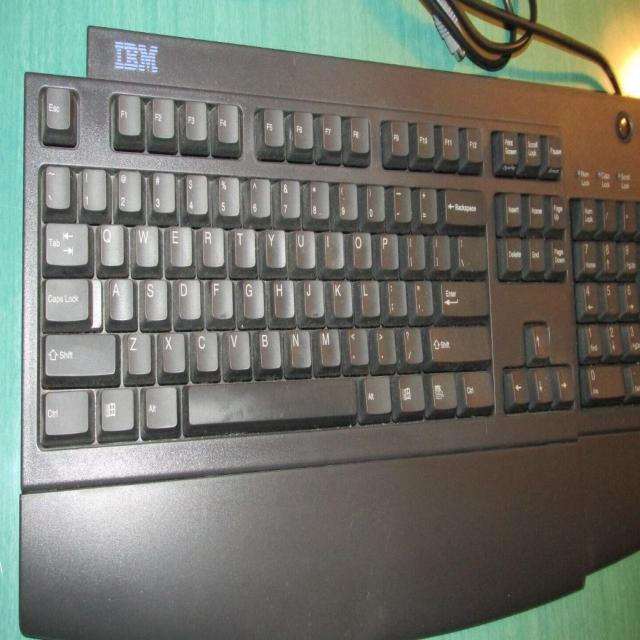keyboard: (24, 74, 640, 485)
